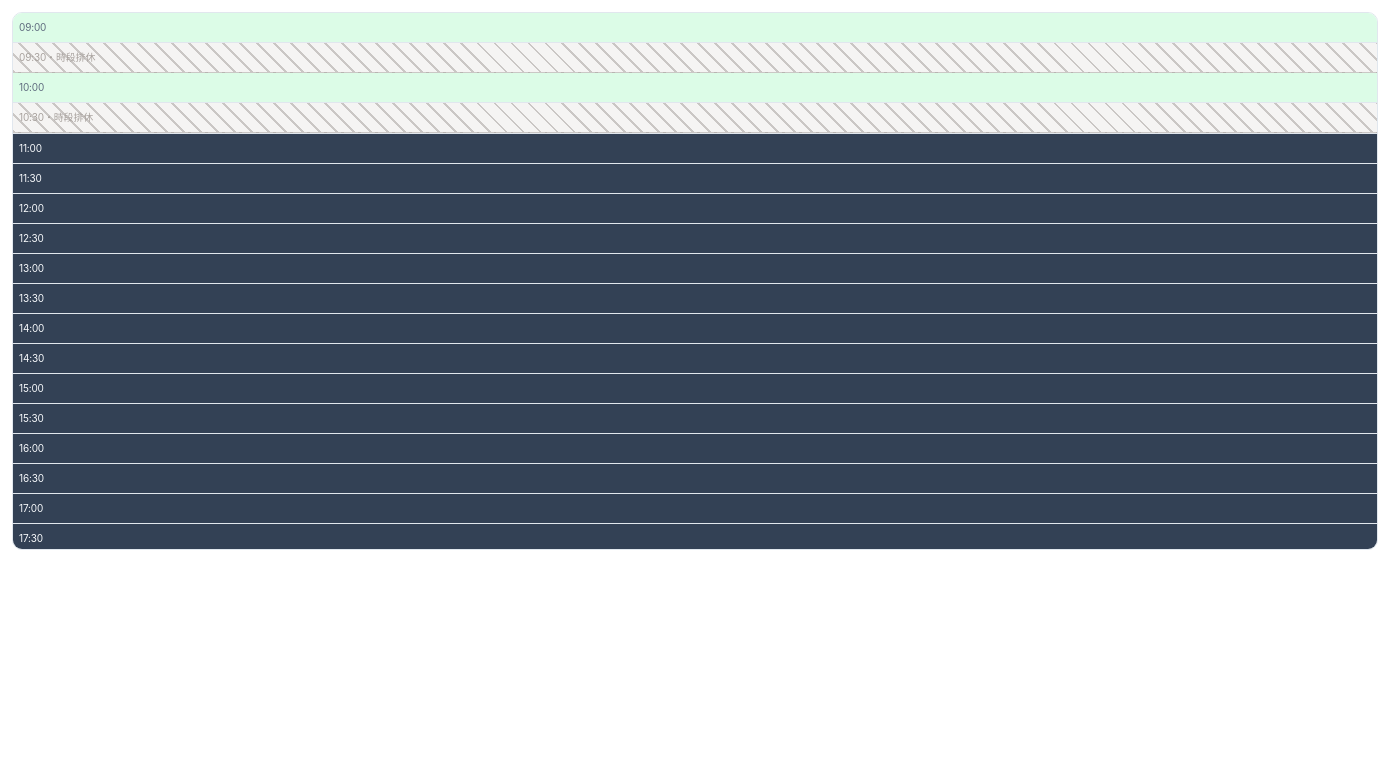
Scenario: 服務人員時間軸點格子(#977 第 7 批) › 「商家後台編輯無時段限制」⇒ 整段營業時間都算時段內,排休的格子可以「開啟時段」
This screenshot has width=1390, height=780.
(page scrolled)
Step 1. Press the mouse on the button with aria-label "10:30 不可預約" → (56,117), box [13, 103, 1377, 133]
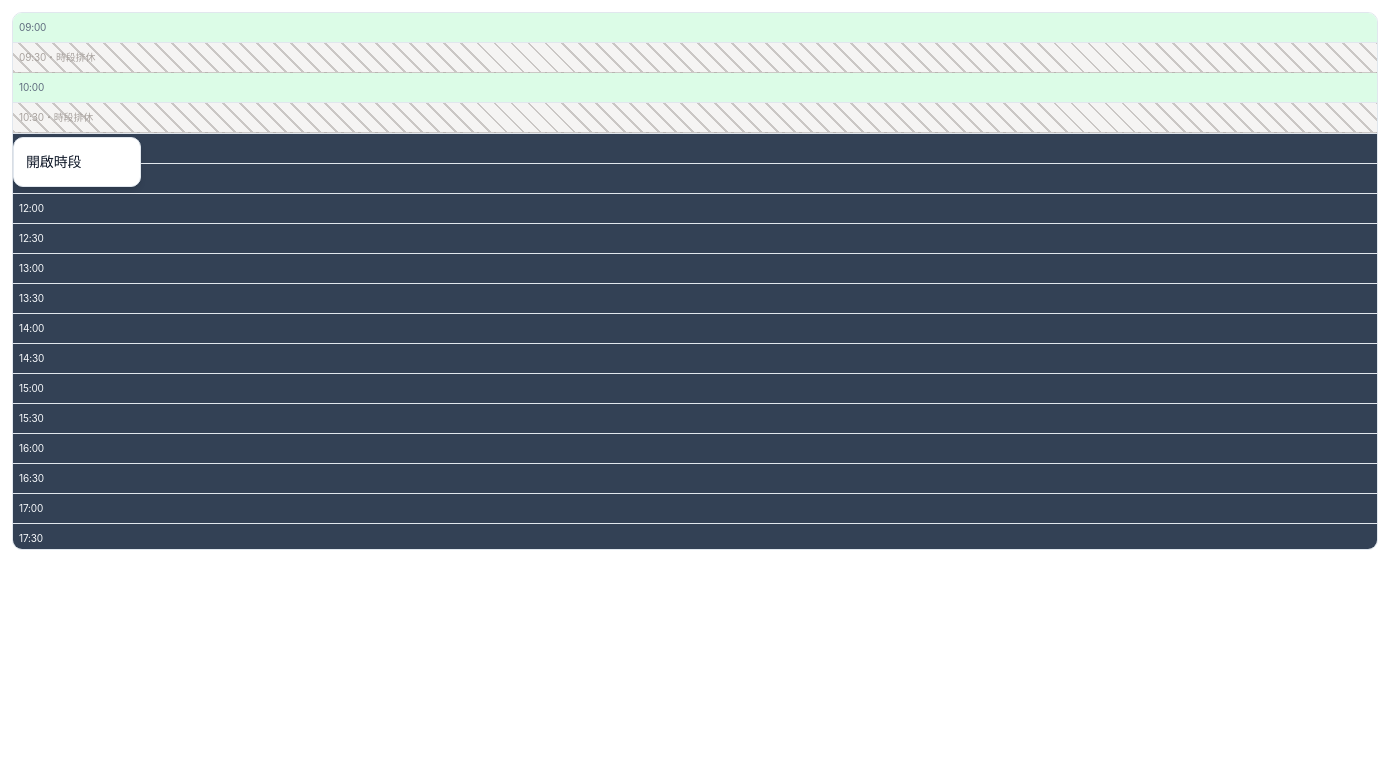
Result: the menu item "開啟時段" is shown at [26, 153, 81, 170]
